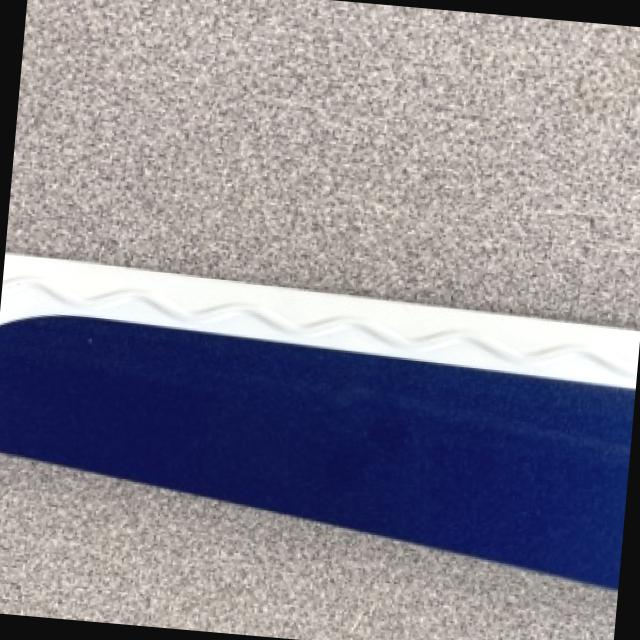healthy: (0, 252, 638, 588)
